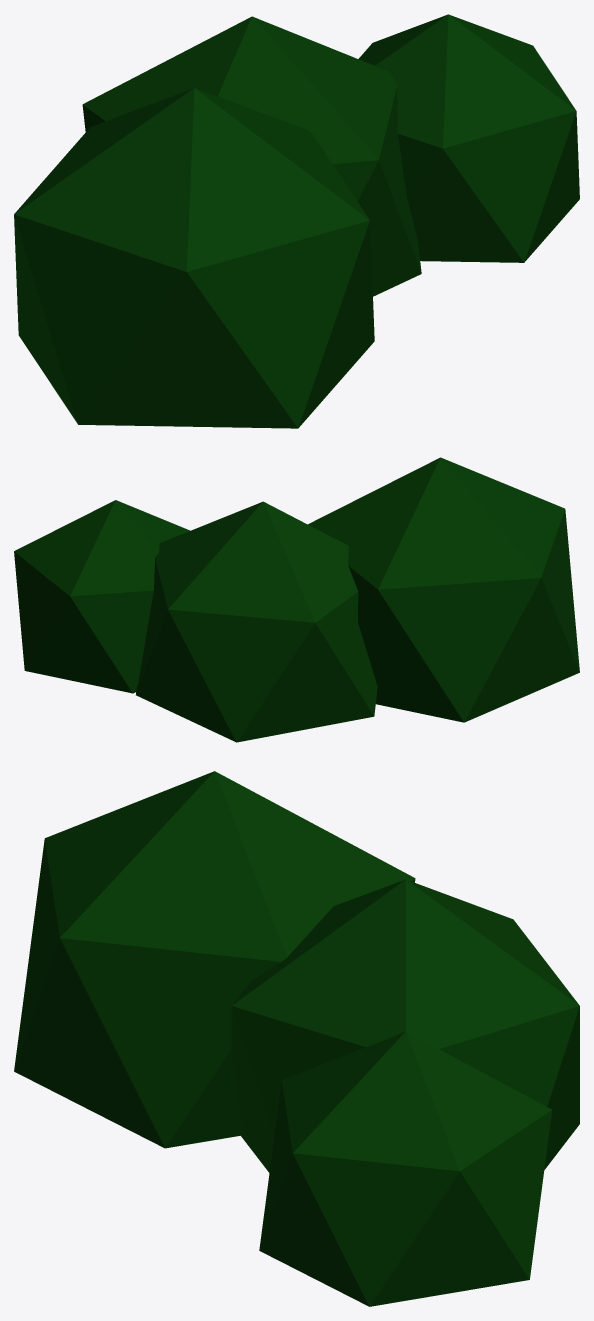
The model's file is Кущ2.obj.
3 renders of one model, top to bottom at view 1: azimuth 30°, elevation 25°; view 2: azimuth 150°, elevation 25°; view 3: azimuth 270°, elevation 25°, orthographic. The views are drawn at different scales.
Parts seen in each view (by area): view 1: Icosphere.001, Icosphere.002, Icosphere; view 2: Icosphere.001, Icosphere, Icosphere.002; view 3: Icosphere.001, Icosphere.002, Icosphere.
Boxes of the visible parts, x1=… form: Icosphere.001: x1=14, y1=88, x2=374, y2=428; Icosphere.002: x1=358, y1=14, x2=579, y2=262; Icosphere: x1=82, y1=16, x2=421, y2=296; Icosphere.001: x1=308, y1=457, x2=579, y2=722; Icosphere: x1=136, y1=501, x2=377, y2=742; Icosphere.002: x1=14, y1=500, x2=189, y2=693; Icosphere.001: x1=14, y1=771, x2=415, y2=1148; Icosphere.002: x1=259, y1=1031, x2=552, y2=1306; Icosphere: x1=231, y1=879, x2=579, y2=1172.
Size of the model in its own units: 3.88 by 1.74 by 2.88.
